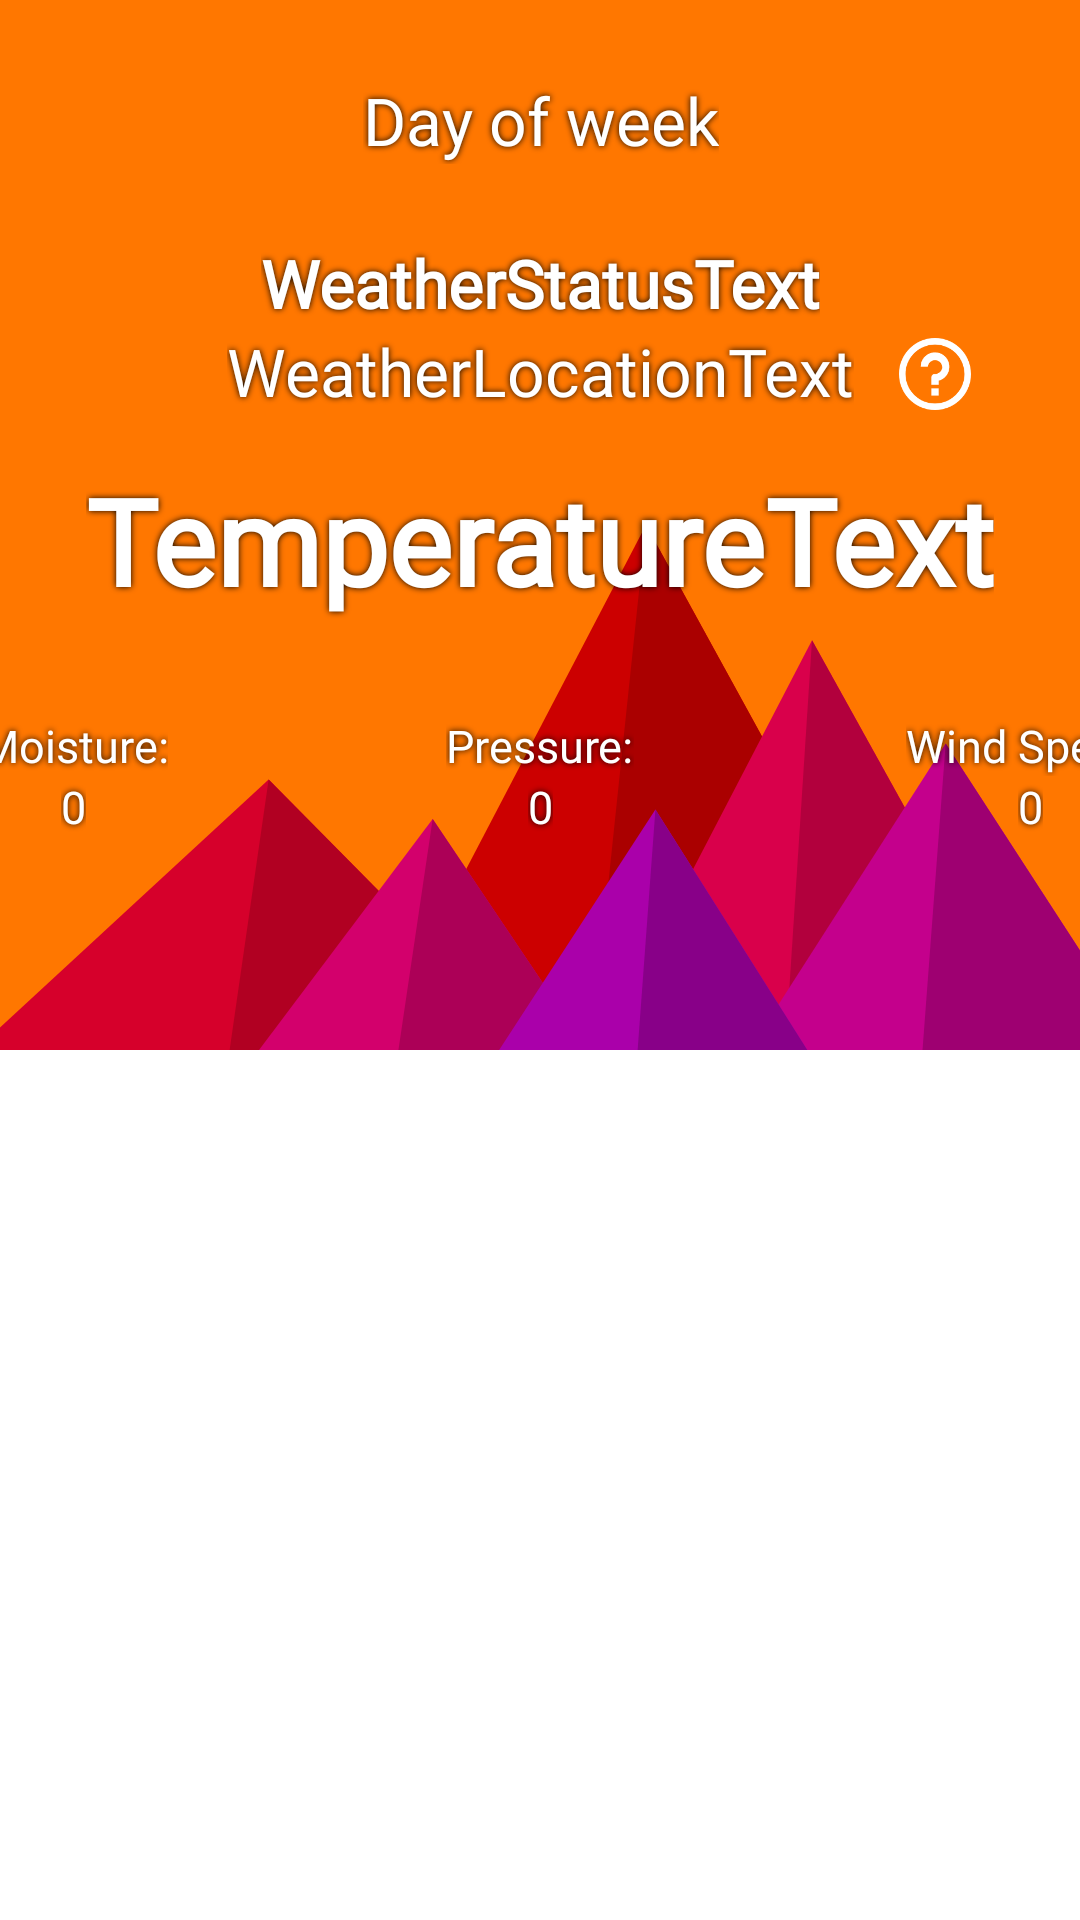

Where to tap for icons on this 1080*1920 app screen, as point (x, y):
question: point (935, 374)
